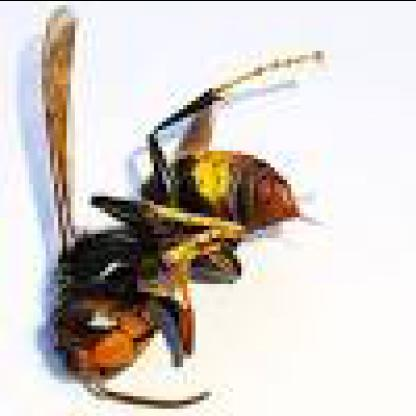asian: (46, 4, 320, 408)
